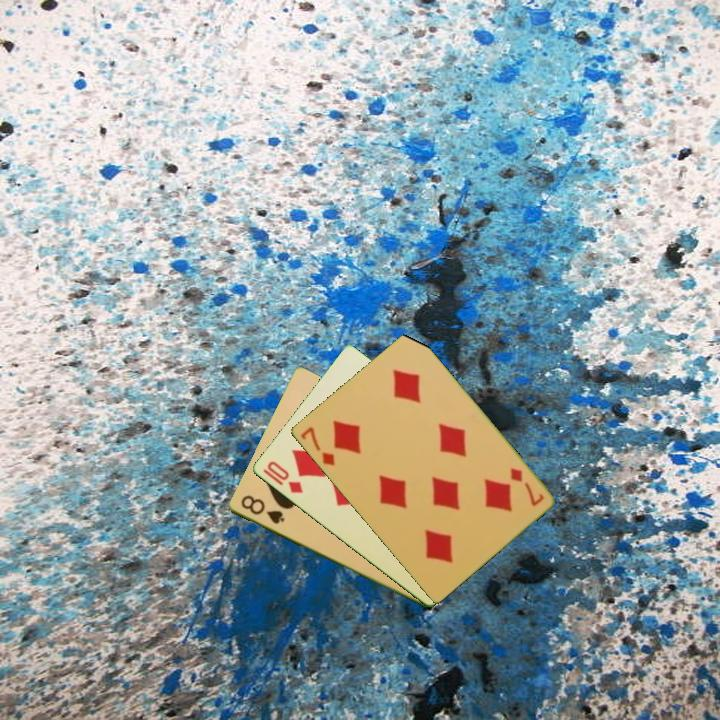10d: (263, 457, 305, 496)
7d: (297, 423, 338, 469), (506, 464, 547, 509)
8s: (237, 492, 287, 527)
